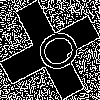O: (25, 25, 84, 81)
